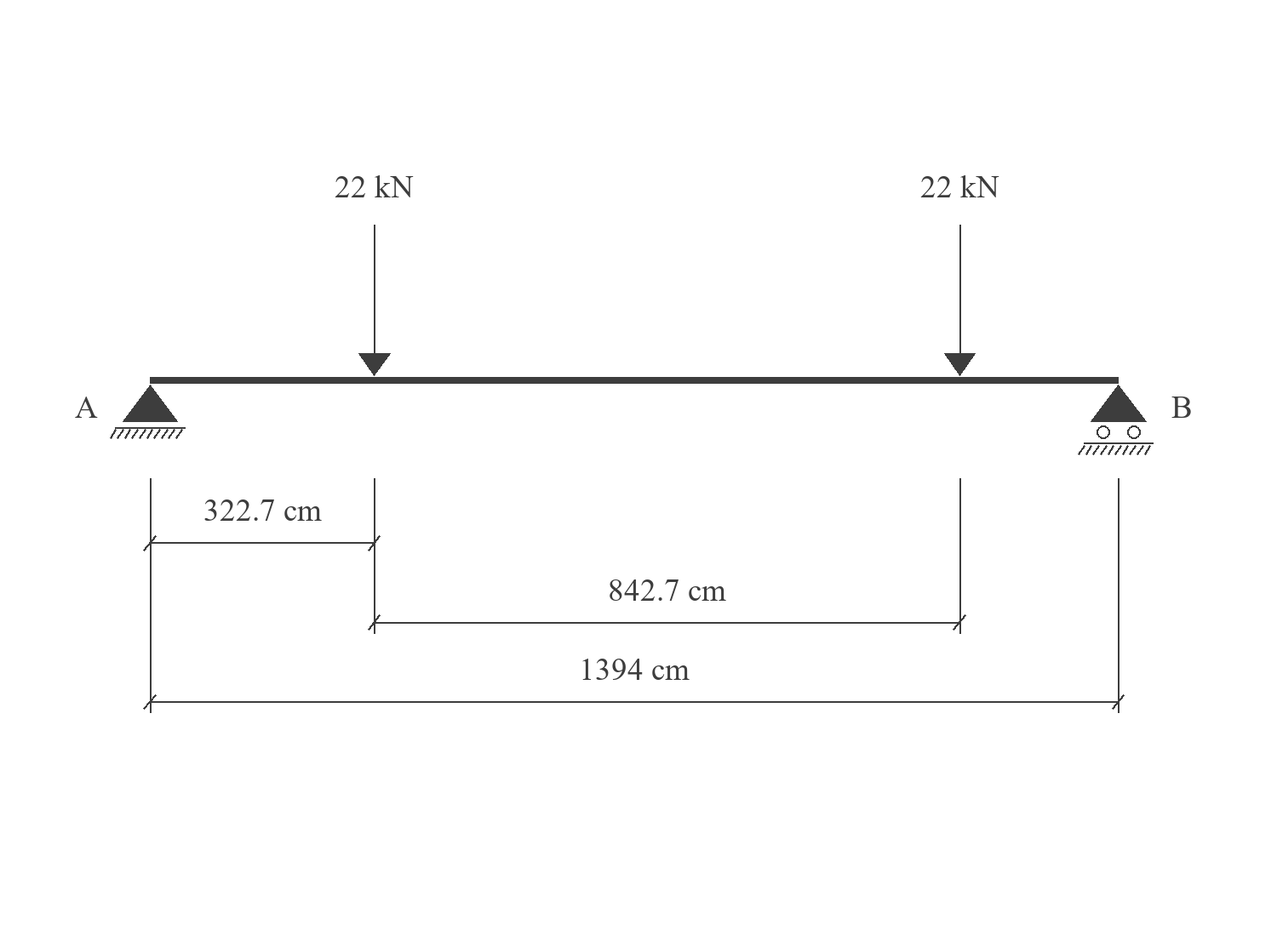pin_support: (110, 385, 186, 439)
point_load: (358, 225, 391, 376), (944, 225, 976, 376)
roller_support: (1078, 385, 1154, 455)
